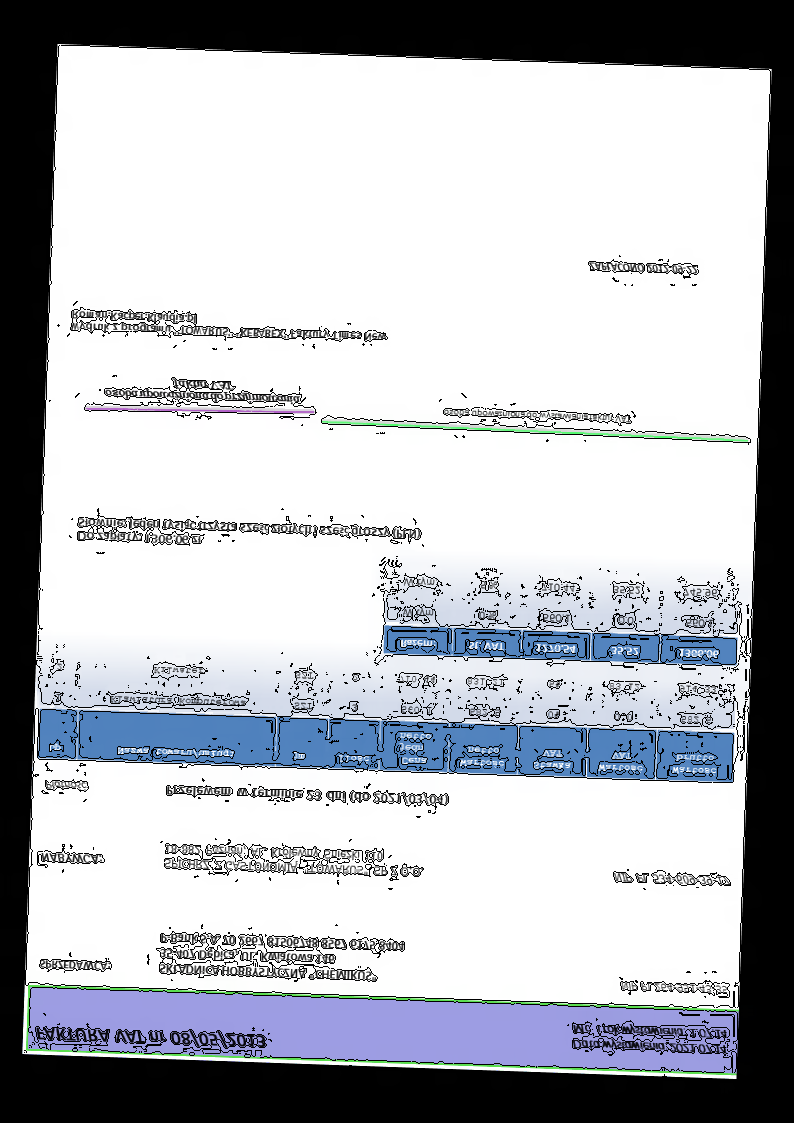Table: (35, 645, 737, 784), (382, 563, 741, 668)
TextBox: (75, 514, 423, 555), (156, 930, 407, 986), (68, 306, 388, 345), (161, 842, 427, 880), (165, 783, 450, 808), (33, 1022, 268, 1051), (104, 376, 302, 407), (569, 1020, 729, 1057), (442, 405, 632, 425), (612, 869, 731, 888), (586, 258, 698, 278), (619, 979, 728, 997), (37, 956, 113, 973), (39, 849, 104, 867), (43, 778, 89, 793)
